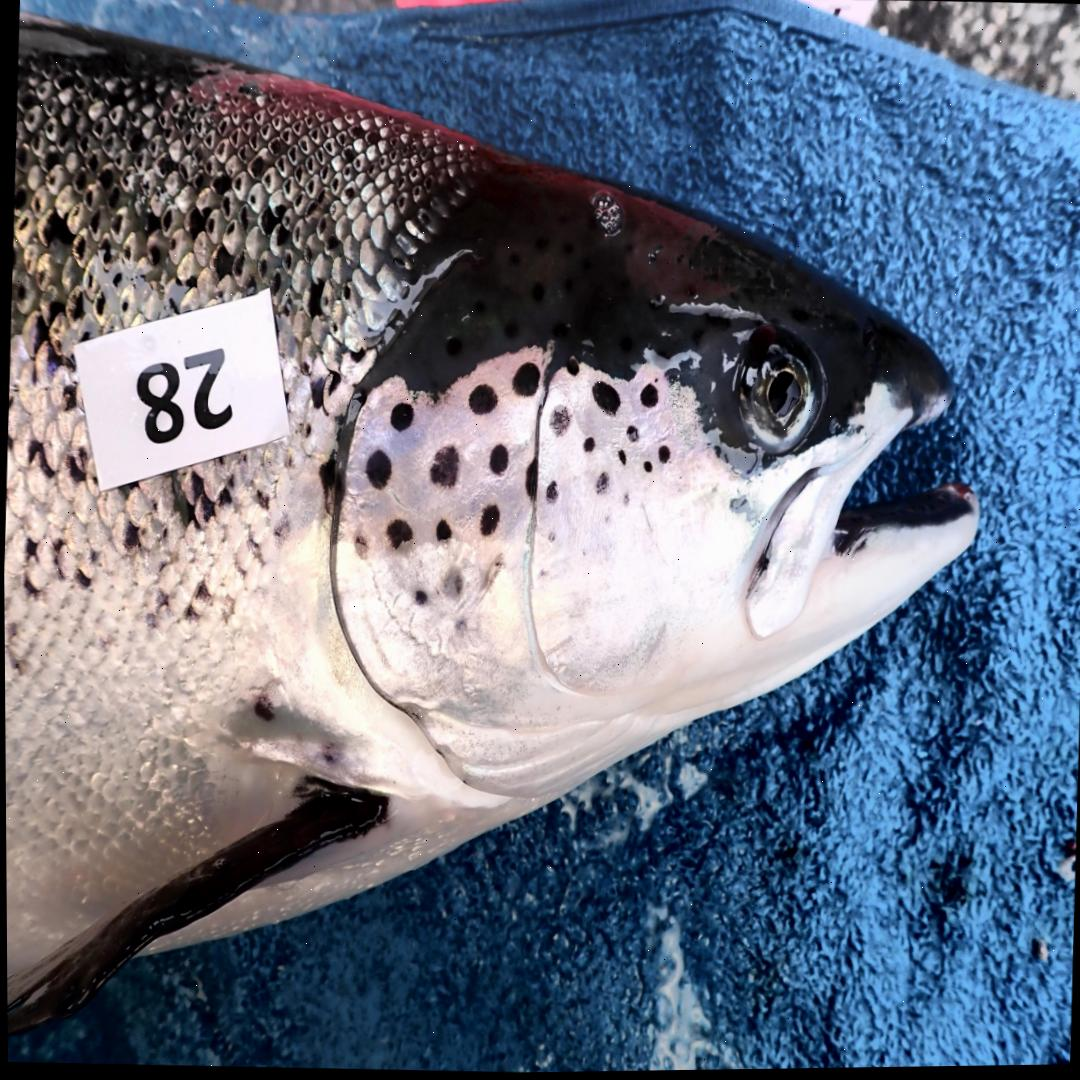spot: (428, 446, 457, 487), (363, 451, 390, 488), (591, 381, 619, 416), (467, 384, 495, 416), (511, 362, 537, 396), (383, 520, 411, 549), (447, 614, 469, 649), (547, 406, 569, 438), (389, 402, 413, 431), (477, 505, 498, 537), (487, 445, 507, 477), (523, 460, 537, 500), (441, 571, 461, 599), (351, 531, 368, 560), (638, 385, 656, 408), (433, 519, 450, 542), (592, 473, 608, 496), (563, 357, 579, 377), (544, 481, 556, 504), (412, 590, 427, 608), (656, 446, 669, 466), (624, 425, 637, 442), (581, 438, 594, 453), (545, 530, 556, 544), (618, 494, 629, 508), (641, 463, 651, 474), (617, 451, 624, 465), (537, 570, 547, 577)
